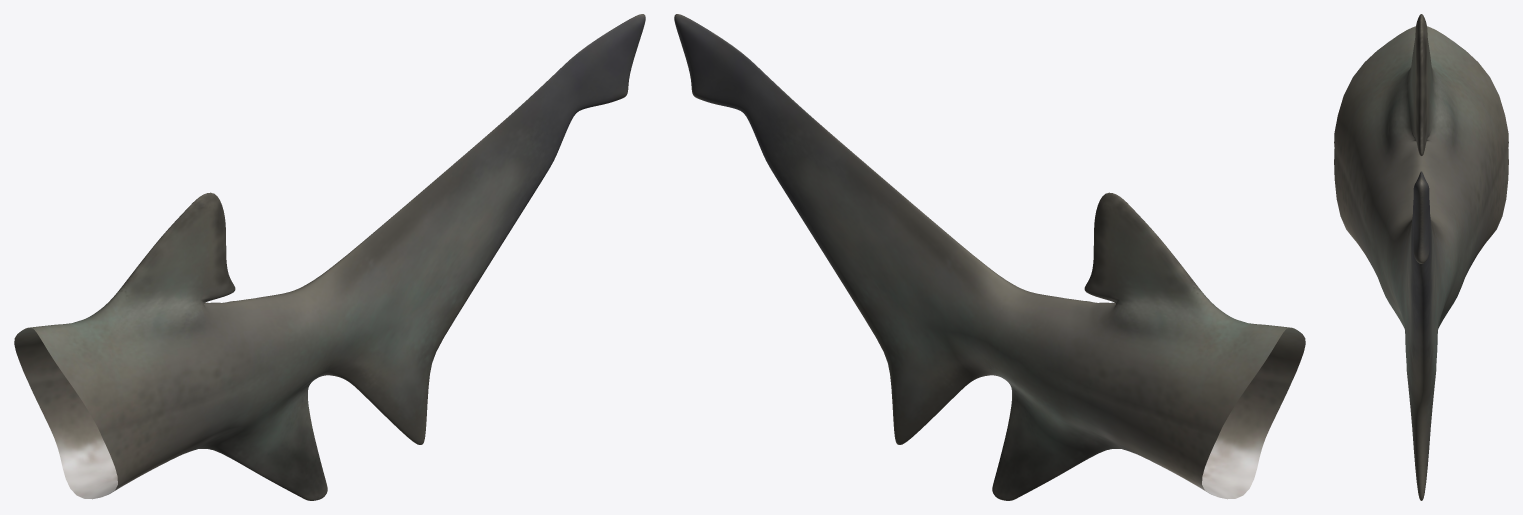
The model's file is colaTib2.obj.
3 views of the same model, side by side, from view 1: azimuth 30°, elevation 25°; view 2: azimuth 150°, elevation 25°; view 3: azimuth 270°, elevation 25° (orthographic). The views are drawn at different scales.
Visible parts, largest first — view 1: polySurface4; view 2: polySurface4; view 3: polySurface4.
Part boxes in pixels (x1,y1,x2,y2): polySurface4: (14, 14, 645, 500); polySurface4: (674, 14, 1305, 500); polySurface4: (1334, 14, 1508, 500).
Bounding box in the file's own units: 9.3 × 5.9 × 1.94.
1 material, 1 textured.
